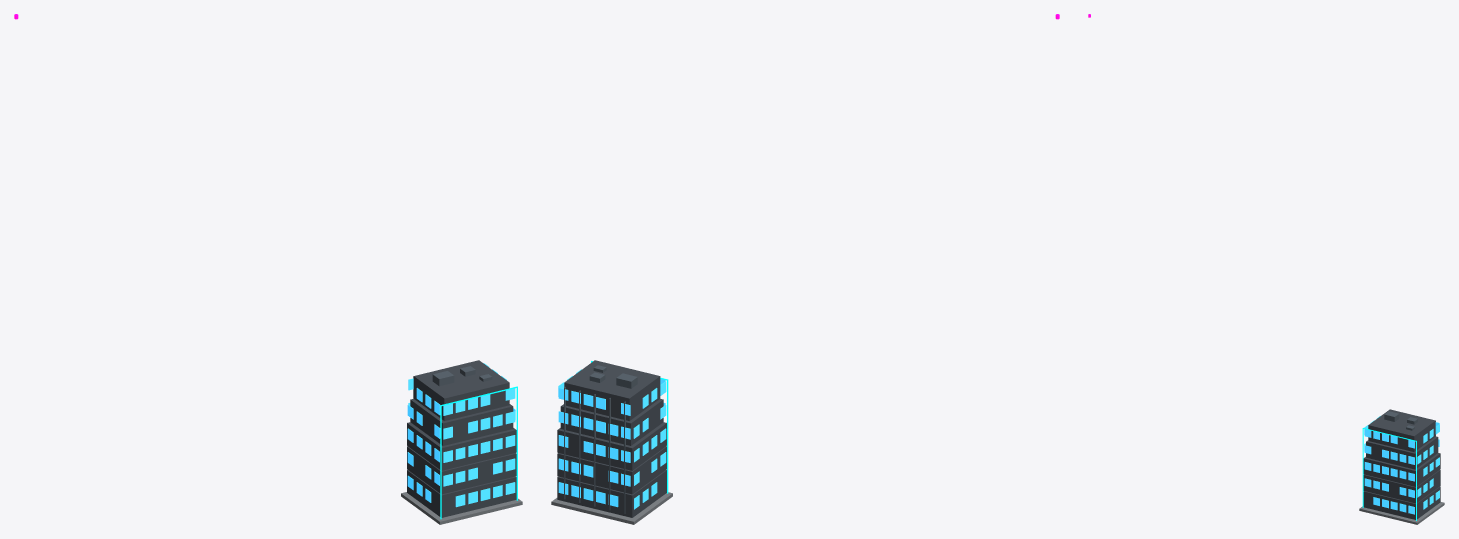
Rendered from stage 4.glb.
3 views of the same model, side by side, from view 1: azimuth 30°, elevation 25°; view 2: azimuth 150°, elevation 25°; view 3: azimuth 330°, elevation 25° (orthographic). The views are drawn at different scales.
Visible parts, largest first — view 1: BuildingMass.001, Windows.001, Foundation.003, NeonFrame; view 2: BuildingMass.001, Windows.001, FacadeFins, Foundation.003; view 3: BuildingMass.001, Windows.001, Foundation.003.
Part boxes in pixels (left/top/right/bottom): BuildingMass.001: left=407, top=360, right=516, bottom=517; Windows.001: left=407, top=363, right=515, bottom=507; Foundation.003: left=401, top=492, right=522, bottom=524; NeonFrame: left=440, top=386, right=517, bottom=519; BuildingMass.001: left=557, top=360, right=666, bottom=517; Windows.001: left=558, top=369, right=666, bottom=509; FacadeFins: left=564, top=387, right=625, bottom=513; Foundation.003: left=551, top=492, right=672, bottom=524; BuildingMass.001: left=1363, top=409, right=1440, bottom=519; Windows.001: left=1364, top=416, right=1439, bottom=514; Foundation.003: left=1359, top=502, right=1444, bottom=524.
Bounding box in the file's own units: 65.06 × 75.69 × 9.
